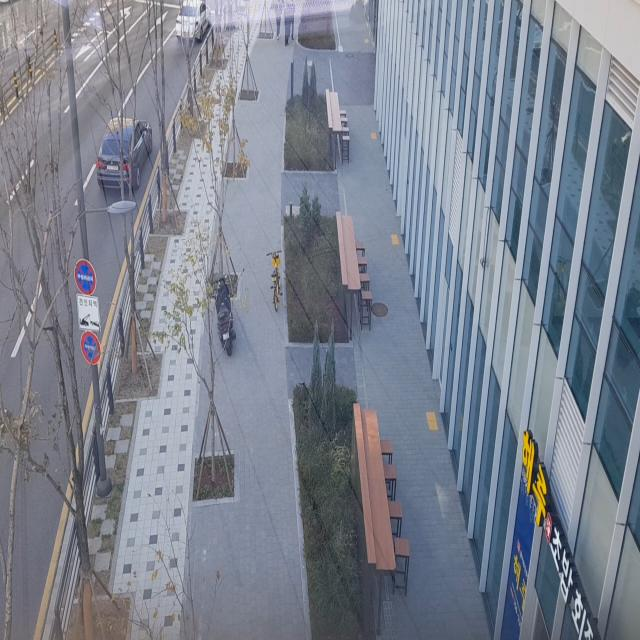Car: (85, 101, 152, 211), (174, 0, 215, 45)
